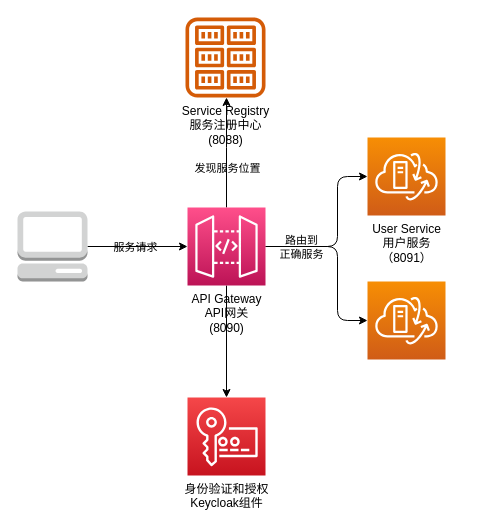
This 483x528 diagram has some shape labels left out. Here are the shapes that lost their labels. From the top down, the centre of each, then its label:
At (x=52, y=246): "用户".
At (x=406, y=320): "Fund Transfer Service 转账服务 （8092）".
